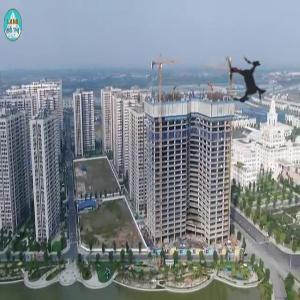drone: (203, 39, 289, 125)
